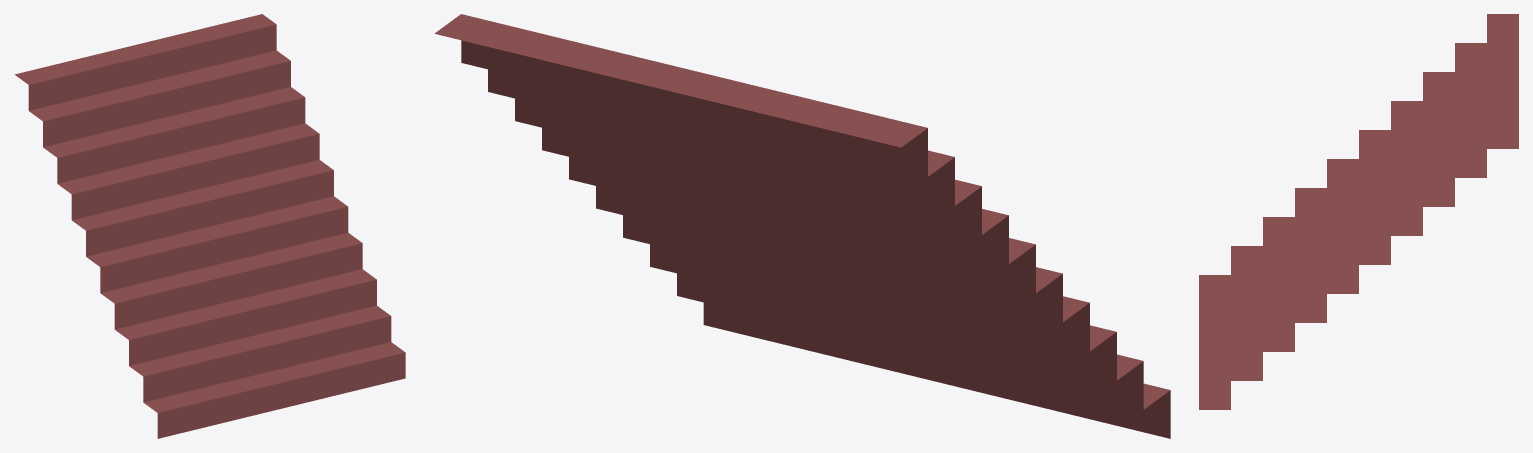
File: Stairs FLR2.fbx
3 renders of one model, left to right at view 1: azimuth 30°, elevation 25°; view 2: azimuth 150°, elevation 25°; view 3: azimuth 270°, elevation 25°, orthographic. The views are drawn at different scales.
Parts seen in each view (by area): view 1: Stairs; view 2: Stairs; view 3: Stairs.
Boxes of the visible parts, x1=… form: Stairs: x1=14, y1=14, x2=405, y2=438; Stairs: x1=434, y1=14, x2=1170, y2=438; Stairs: x1=1199, y1=14, x2=1518, y2=409.
Size of the model in its own units: 5 by 5 by 5.
